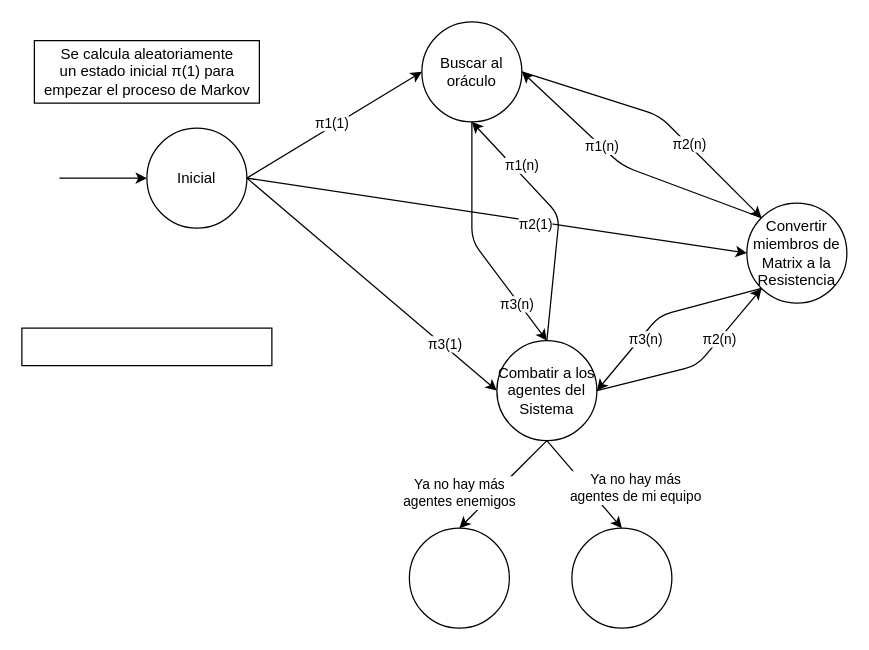
Some shapes in this 869 by 650 pixel diagram are drawn without their labels. Here are the shapes that lost their labels. From the top down, the centre of each, then its label:
[146,346]: La matriz de pesos varía conforme pasa el tiempo???
[458,577]: Hemos ganado
[621,577]: Hemos perdido
